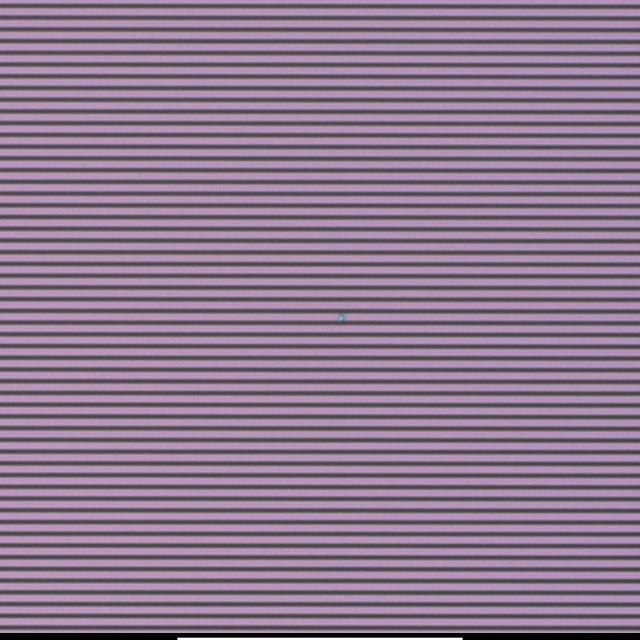nonvisual: (338, 308, 348, 328)
